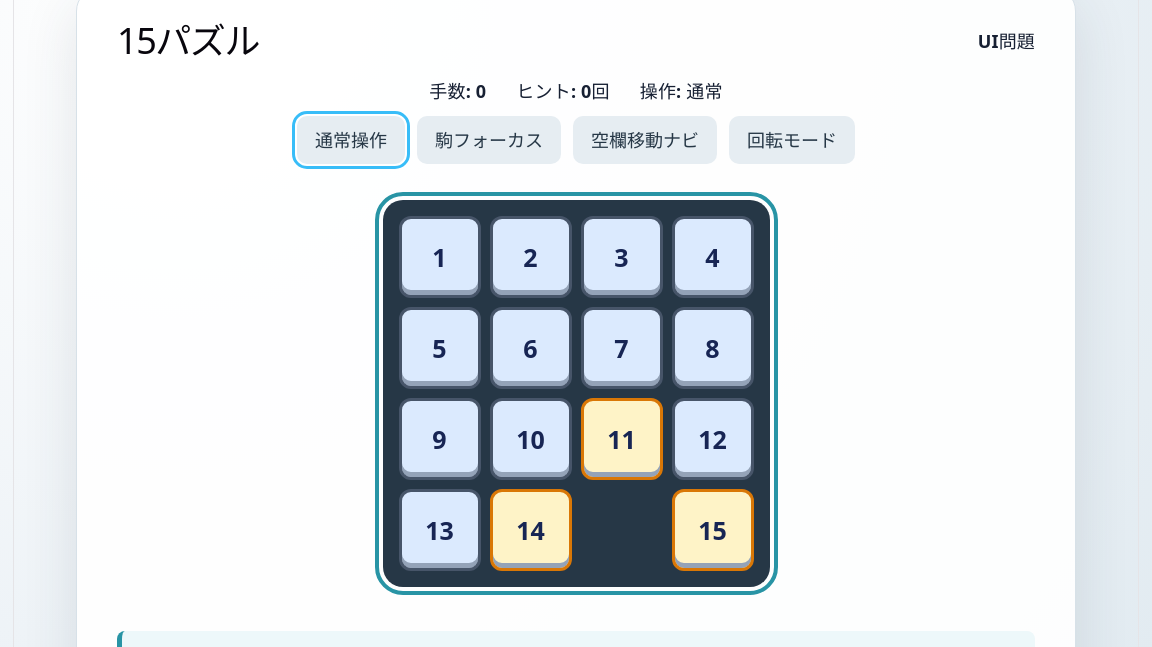
Test case: focuses a tile without moving it and shows its goal
The image size is (1152, 647).
Expected: the table named "15パズル盤面" is shown, [382,200,770,587]
Step 1. Click the button "駒フォーカス" → (489,140), box [417,116,561,164]
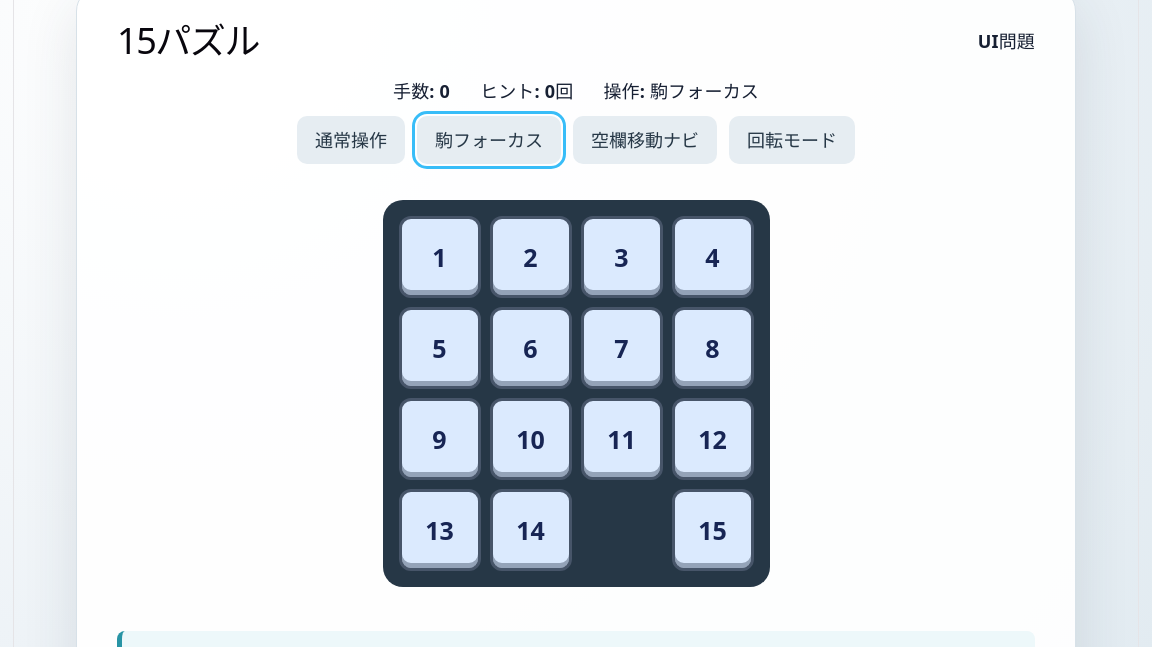
Step 2. Click the button named "駒 15" → (712,530), box [672,489,754,571]
(page scrolled)
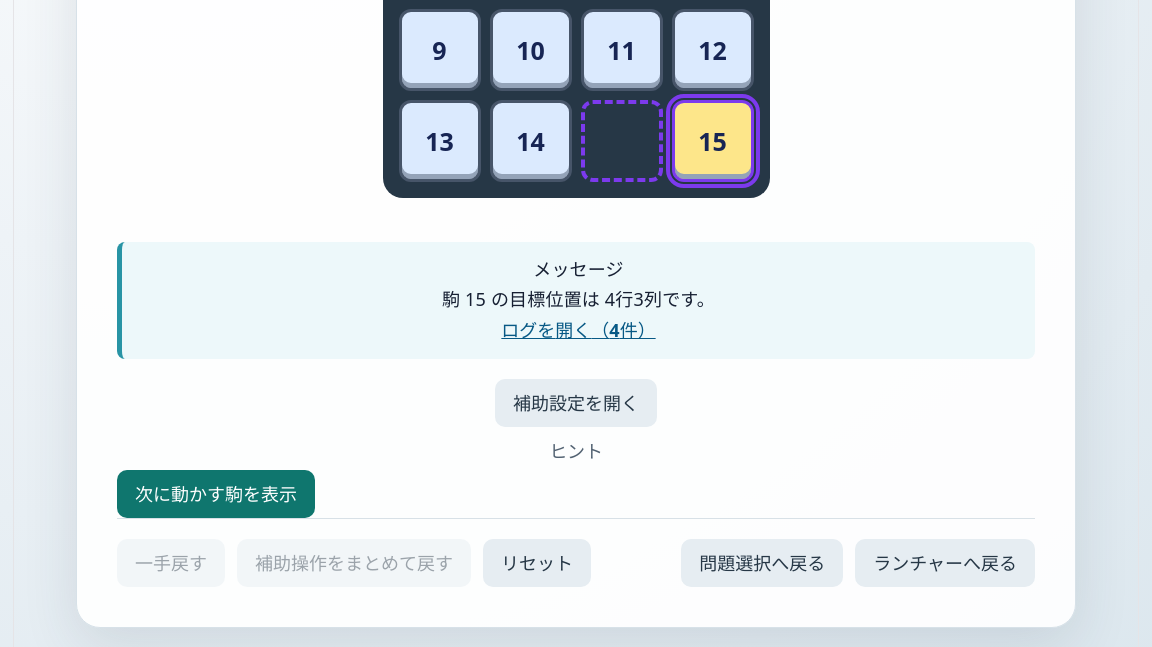
Now the text "駒 15 の目標位置は 4行3列です。" is shown, box [442,287,715,311]
